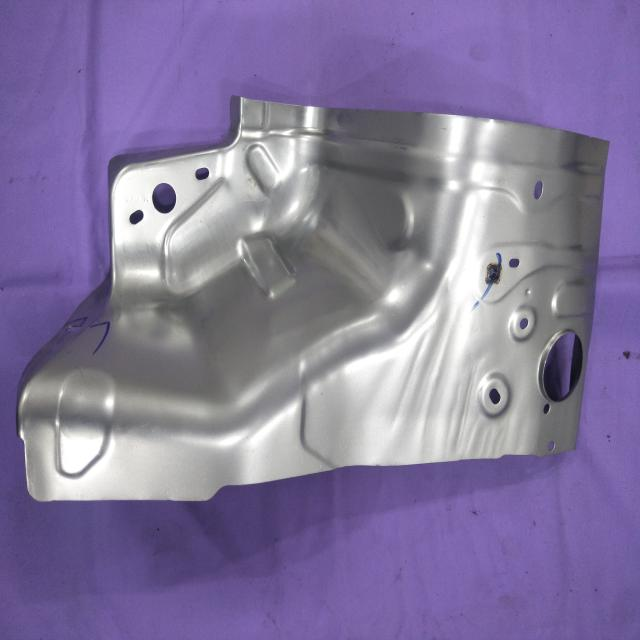Healthy: (17, 92, 610, 505)
